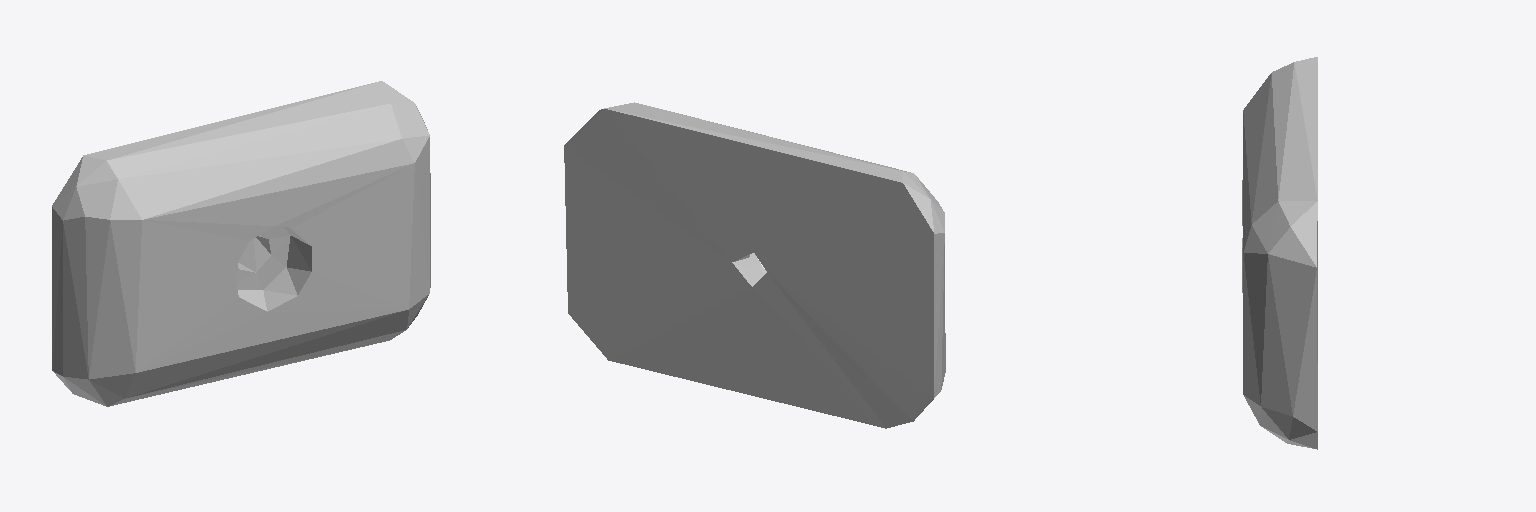
File: weight_right.obj
3 renders of one model, left to right at view 1: azimuth 30°, elevation 25°; view 2: azimuth 150°, elevation 25°; view 3: azimuth 270°, elevation 25°, orthographic.
Visible parts, largest first — view 1: weight_right; view 2: weight_right; view 3: weight_right.
Boxes of the visible parts, x1=… form: weight_right: x1=52, y1=81, x2=430, y2=406; weight_right: x1=564, y1=102, x2=945, y2=428; weight_right: x1=1242, y1=57, x2=1317, y2=449.
Size of the model in its own units: 0.0577 by 0.0375 by 0.0102.